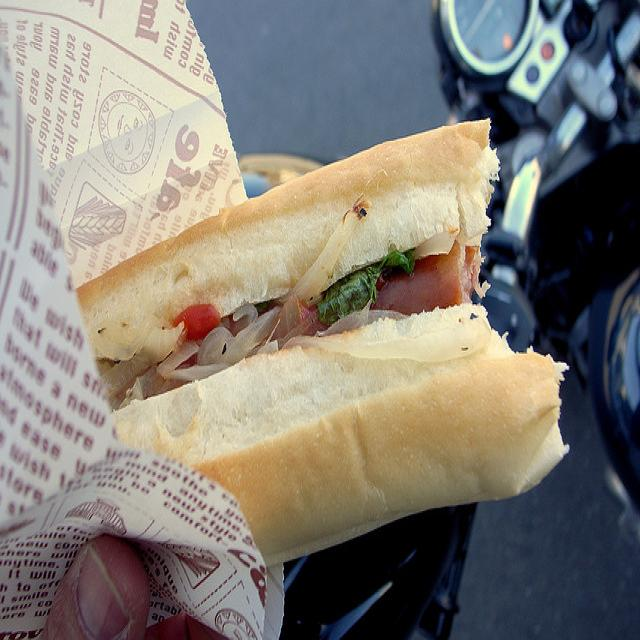motor: (426, 1, 640, 582)
